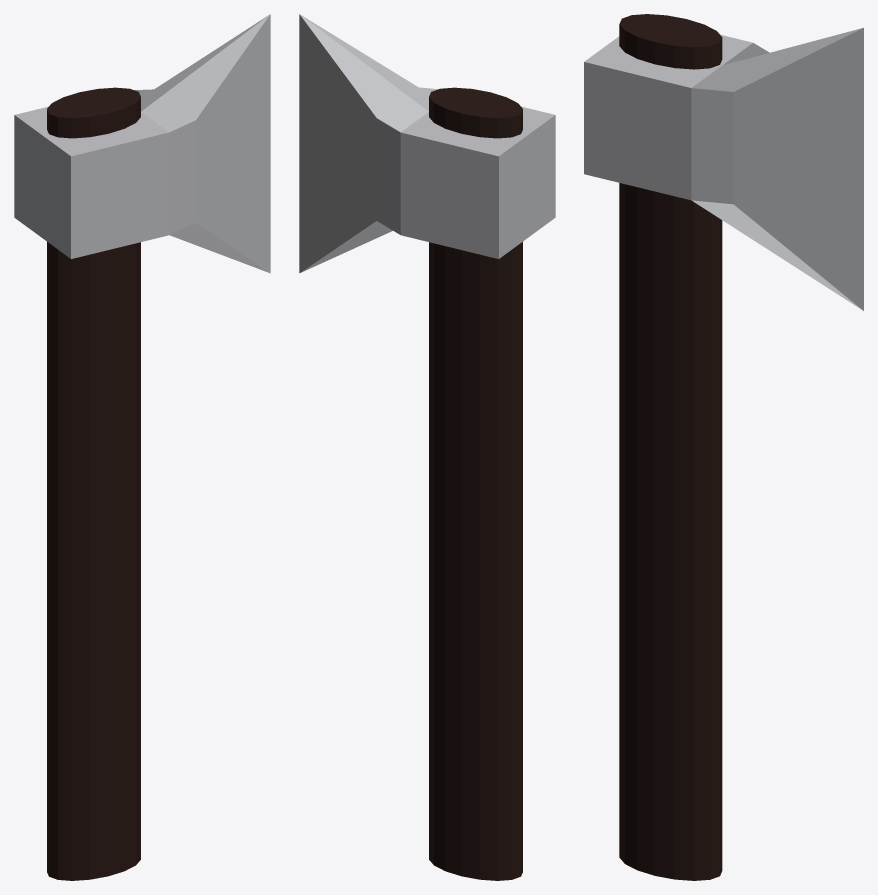
The model's file is Axe (1).fbx.
3 renders of one model, left to right at view 1: azimuth 30°, elevation 25°; view 2: azimuth 150°, elevation 25°; view 3: azimuth 330°, elevation 25°, orthographic. The views are drawn at different scales.
Visible parts, largest first — view 1: Cylinder; view 2: Cylinder; view 3: Cylinder.
Part boxes in pixels (bbox=[...]): Cylinder: bbox=[14, 14, 270, 880]; Cylinder: bbox=[299, 14, 555, 880]; Cylinder: bbox=[584, 14, 863, 880].
Bounding box in the file's own units: 507 × 1720 × 219.
